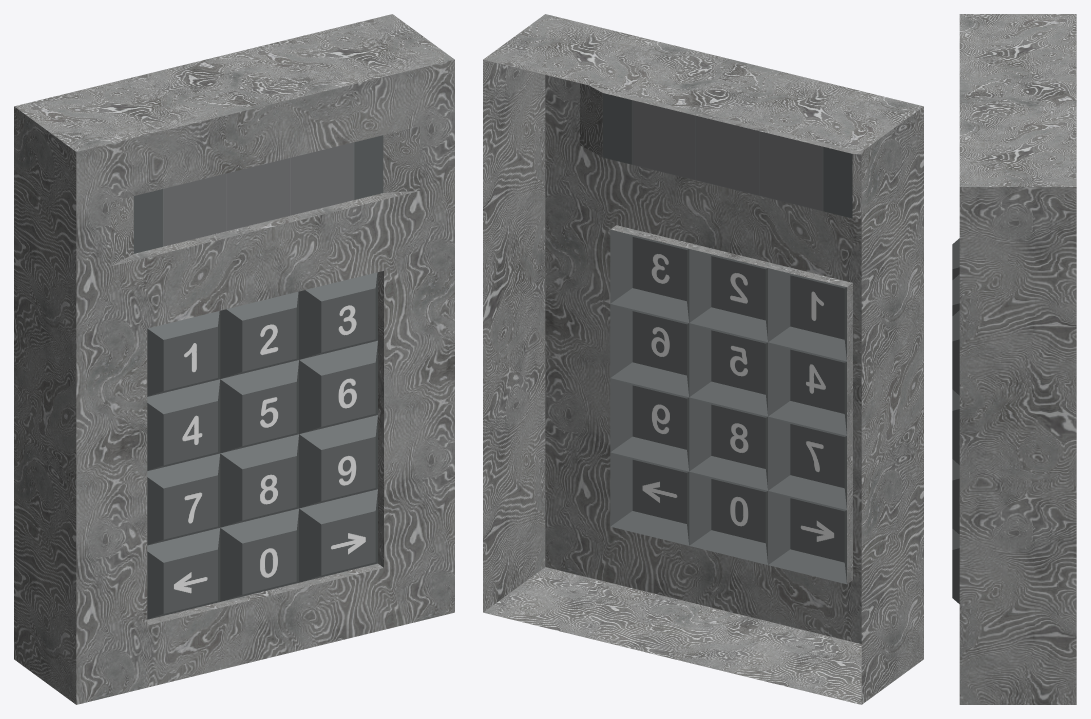
File: security_keypad.glb
3 views of the same model, side by side, from view 1: azimuth 30°, elevation 25°; view 2: azimuth 150°, elevation 25°; view 3: azimuth 270°, elevation 25° (orthographic). The views are drawn at different scales.
Parts seen in each view (by area): view 1: polySurface1; view 2: polySurface1; view 3: polySurface1.
Boxes of the visible parts, x1,y1,x2,y2 form: polySurface1: [14, 14, 454, 704]; polySurface1: [483, 14, 923, 704]; polySurface1: [952, 14, 1076, 704].
Size of the model in its own units: 0.0262 by 0.0366 by 0.00795.
Materials: 1 (1 with a texture image).
